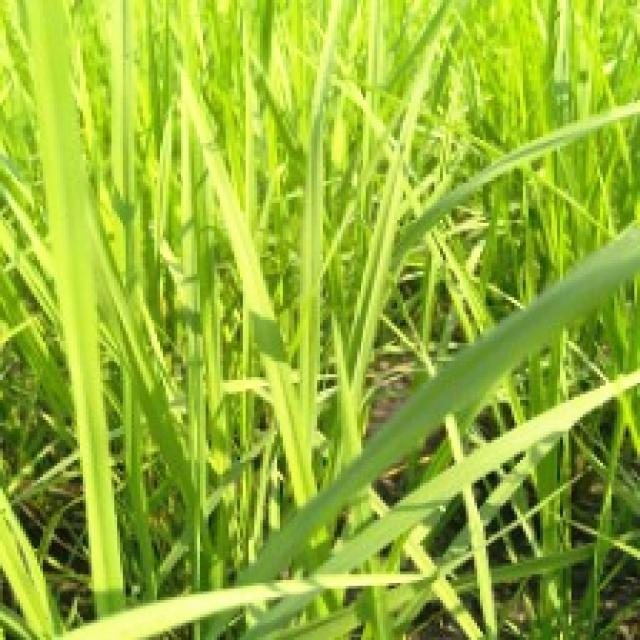health: (6, 0, 389, 310)
